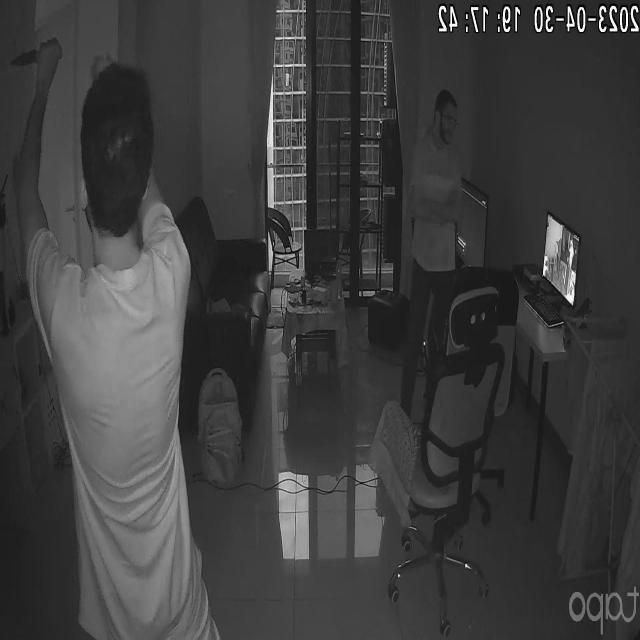Knife: (10, 29, 71, 76)
